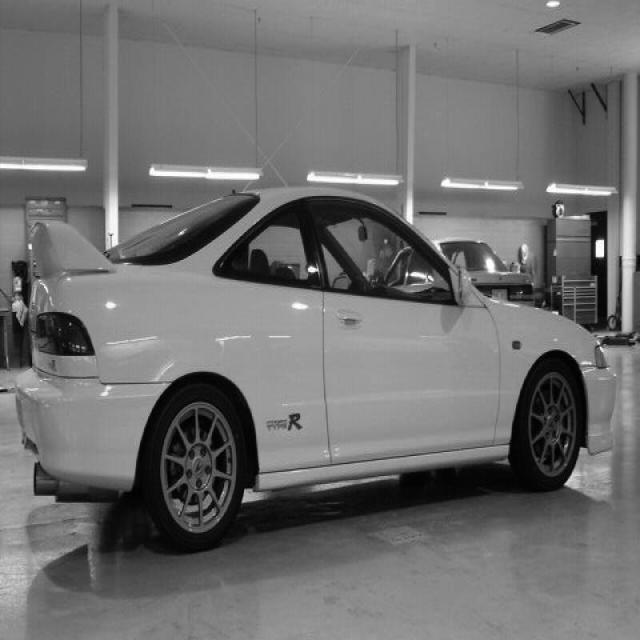car: (14, 184, 617, 552)
